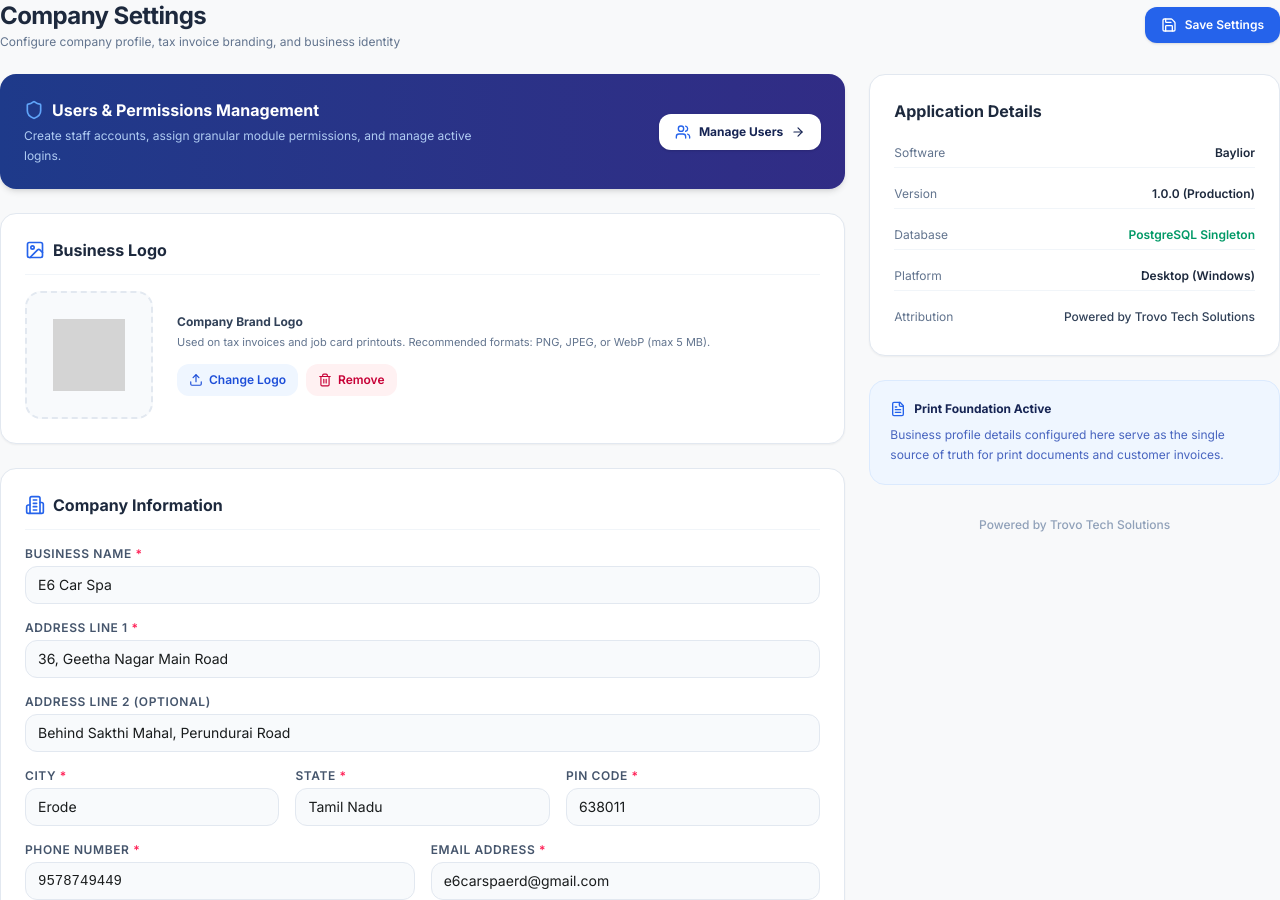
Test case: SettingsPage Component & Business Profile Boundary › removes logo after user confirmation
Click the button "Remove". click: (351, 380)
box: [306,364,397,396]
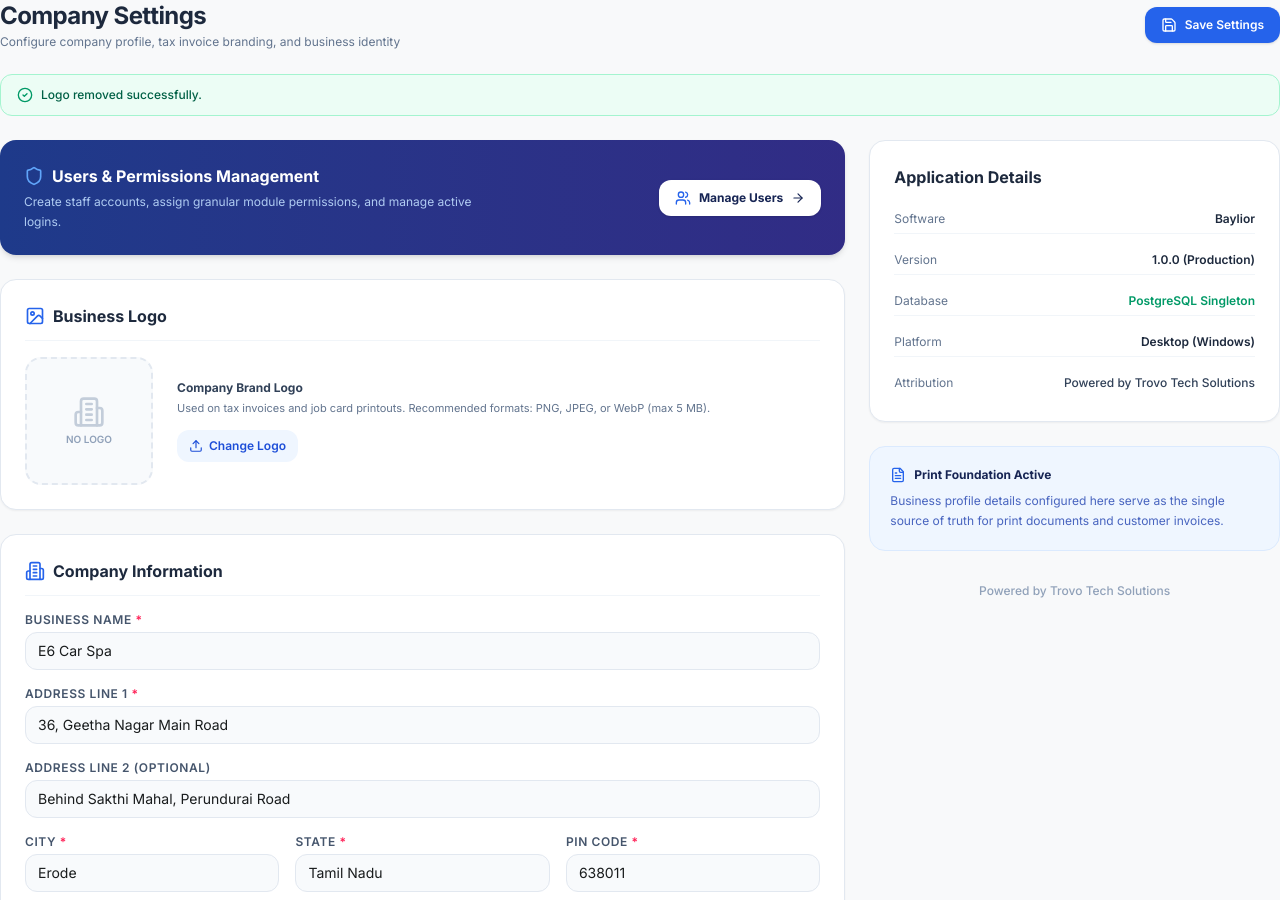
Expected: the text "Logo removed successfully." is shown, [0,74,1279,116]
